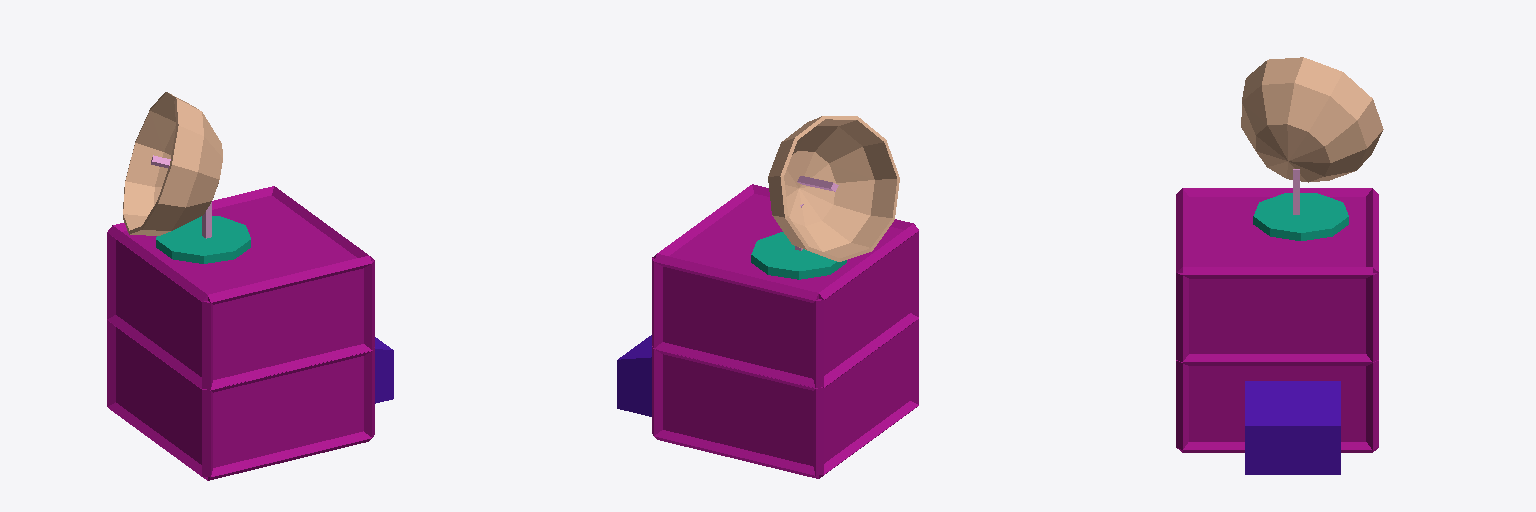
File: mdl_house_background.obj
The picture shows the model from 3 angles: view 1: azimuth 30°, elevation 25°; view 2: azimuth 150°, elevation 25°; view 3: azimuth 270°, elevation 25°; orthographic projection.
Visible parts, largest first — view 1: Box003, Box001, Sphere001, Box004, Box002, Cylinder001, Box005; view 2: Box003, Box001, Sphere001, Box004, Box002, Cylinder001, Box005; view 3: Box003, Sphere001, Box004, Box005, Box001, Box002, Cylinder001.
Part boxes in pixels (x1,y1,x2,y2): Box003: (116, 195, 363, 379); Box001: (116, 327, 363, 467); Sphere001: (123, 92, 222, 235); Box004: (107, 186, 374, 389); Box002: (107, 320, 374, 480); Cylinder001: (156, 216, 250, 263); Box005: (375, 337, 393, 403); Box003: (663, 194, 910, 378); Box001: (663, 325, 910, 465); Sphere001: (768, 116, 899, 261); Box004: (652, 184, 918, 387); Box002: (652, 318, 918, 478); Cylinder001: (751, 232, 846, 279); Box005: (617, 335, 651, 416); Box003: (1189, 197, 1365, 353); Sphere001: (1241, 57, 1383, 182); Box004: (1176, 188, 1378, 362); Box005: (1245, 381, 1340, 474); Box001: (1189, 366, 1365, 441); Box002: (1176, 360, 1378, 452); Cylinder001: (1253, 193, 1348, 240).
Size of the model in its own units: 2.62 by 3.44 by 1.95.